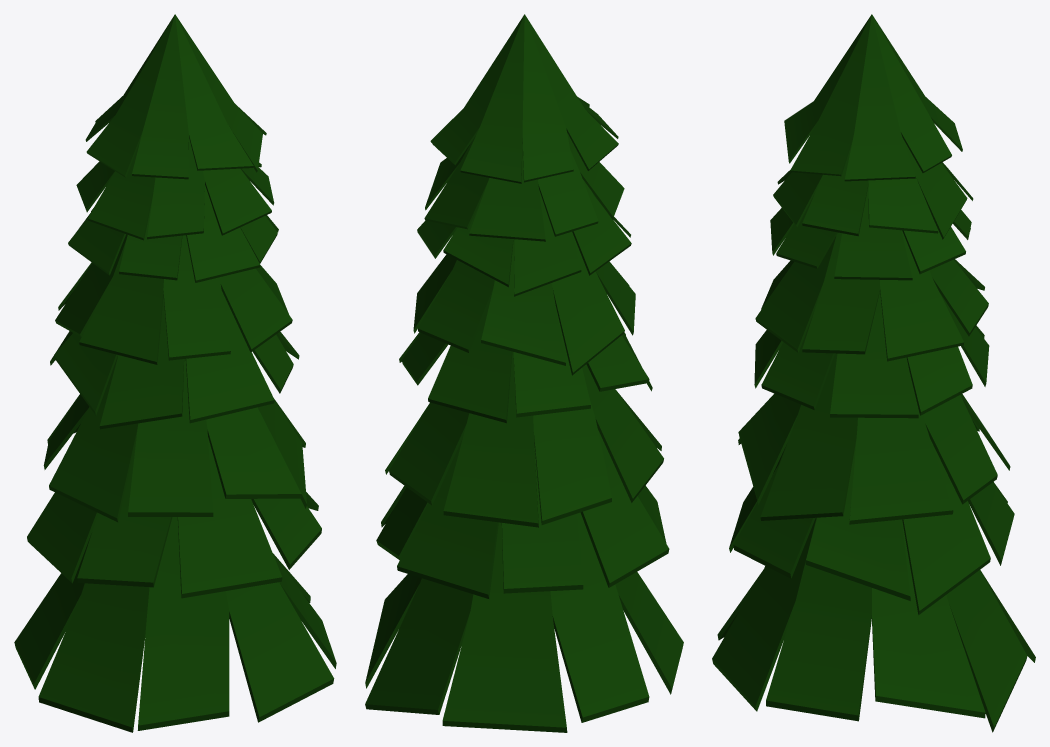
File: Tree3Top.glb
The picture shows the model from 3 angles, left to right: view 1: azimuth 30°, elevation 25°; view 2: azimuth 150°, elevation 25°; view 3: azimuth 270°, elevation 25°; orthographic projection.
Visible parts, largest first — view 1: Tree3; view 2: Tree3; view 3: Tree3.
Boxes of the visible parts, box(x1,y1,x2,y2) form: Tree3: box(14, 14, 336, 732); Tree3: box(365, 14, 683, 732); Tree3: box(712, 14, 1035, 732).
Size of the model in its own units: 1.47 by 3.36 by 1.47.
